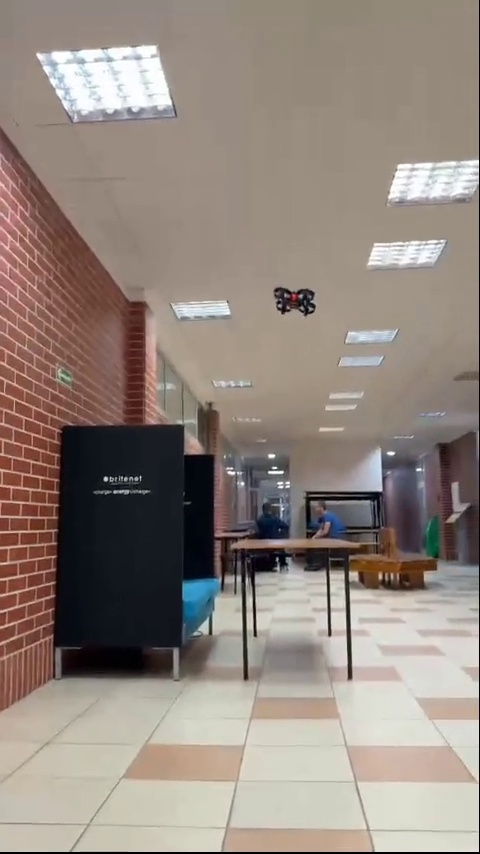drone: (270, 287, 317, 315)
no vest: (307, 500, 340, 539), (259, 497, 285, 536)
